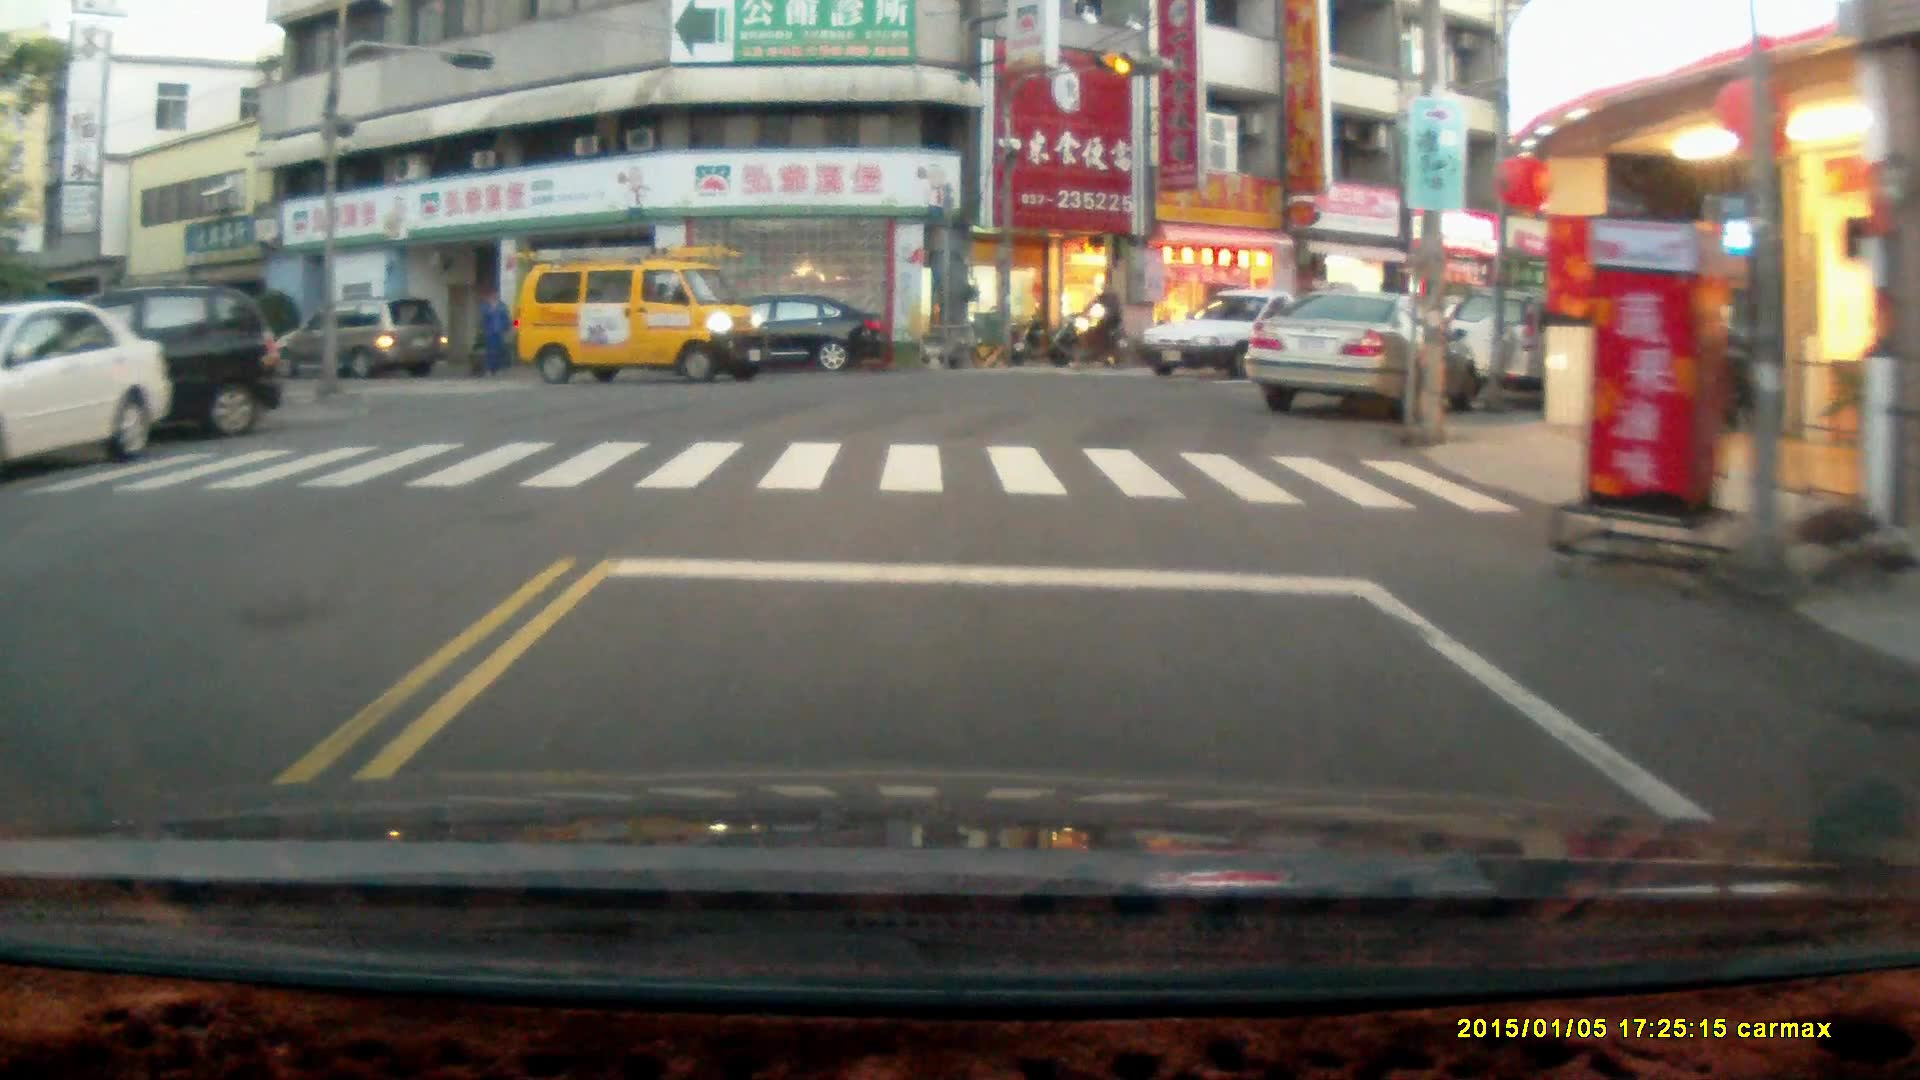pedestrian: (475, 287, 510, 373)
rider: (1058, 271, 1135, 369)
vehicle: (8, 276, 290, 445), (513, 243, 765, 385), (1242, 287, 1489, 417), (1, 297, 176, 475), (1438, 283, 1669, 407), (1135, 281, 1355, 379), (693, 288, 889, 371), (271, 296, 448, 381)
